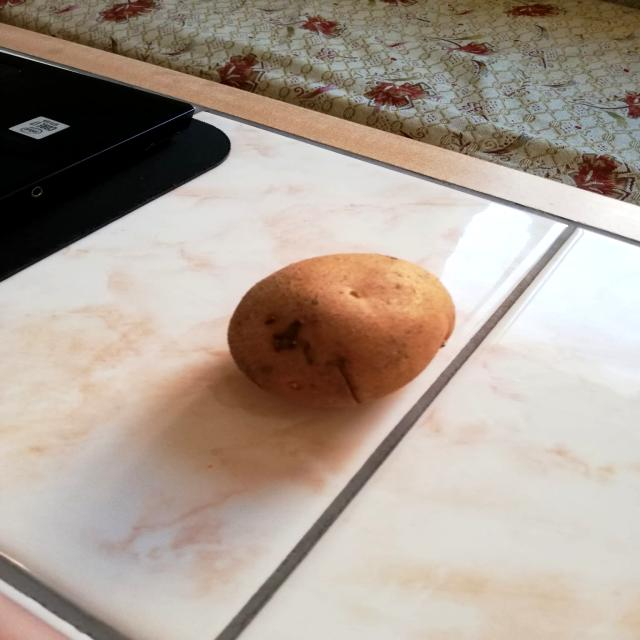potato: (220, 240, 462, 412)
